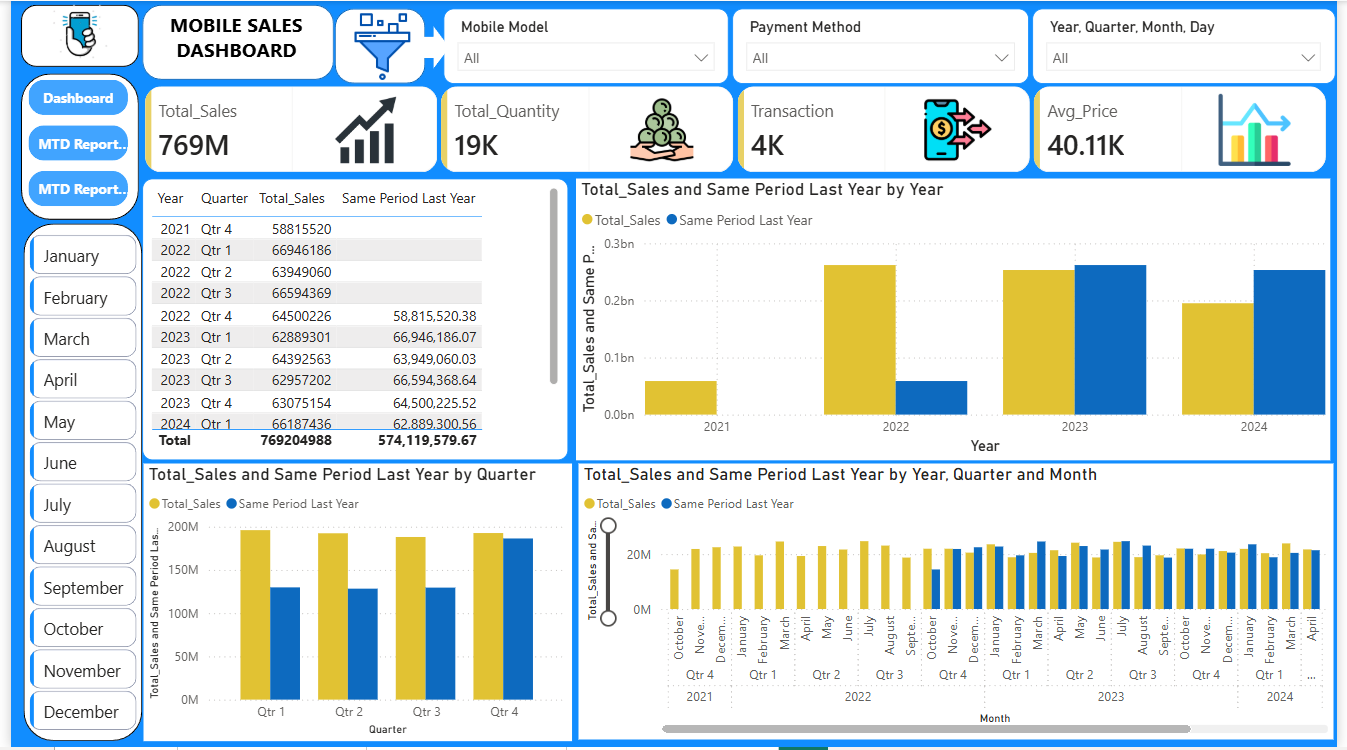

What the dashboard file says about the page in this screenshot:
{"tool":"powerbi","page":{"name":"Same Period Last Year","canvas":[1280,720],"ordinal":2},"visuals":[{"type":"shape","box":[10,3.8,113.8,60],"z":0},{"type":"image","box":[10,3.8,113.8,60],"z":1000},{"type":"shape","box":[10,70,113.8,141.2],"z":2000},{"type":"shape","box":[12.1,214.7,114.6,499.5],"z":3000},{"type":"advancedSlicerVisual","fields":{"Values":["Custom_calender.Date.Variation.Date Hierarchy.Month"]},"box":[13.3,220.8,113.4,493.4],"z":4000},{"type":"cardVisual","fields":{"Data":["Sales_Data.Total_Sales","Sales_Data.Total_Quantity","Sales_Data.Transaction","Sales_Data.Avg_Price"]},"box":[123.5,76.5,1155.6,95.1],"z":5000},{"type":"slicer","fields":{"Values":["Sales_Data.Mobile Model"]},"box":[417.5,7.5,275,72.5],"z":6000},{"type":"slicer","fields":{"Values":["Sales_Data.Payment Method"]},"box":[696.2,7.5,286.2,72.5],"z":7000},{"type":"slicer","fields":{"Values":["Custom_calender.Date.Variation.Date Hierarchy.Year","Custom_calender.Date.Variation.Date Hierarchy.Quarter","Custom_calender.Date.Variation.Date Hierarchy.Month","Custom_calender.Date.Variation.Date Hierarchy.Day"]},"box":[986.2,7.5,292.5,72.5],"z":8000},{"type":"shape","box":[312.5,7.5,87.5,72.5],"z":9000},{"type":"image","box":[317.5,11.2,82.5,66.2],"z":10000},{"type":"shape","box":[392.5,23.8,31.2,41.2],"z":11000},{"type":"shape","box":[126.2,3.8,185,72.5],"z":12000},{"type":"textbox","box":[148.8,5,138.8,80],"z":13000},{"type":"tableEx","fields":{"Values":["Custom_calender.Date.Variation.Date Hierarchy.Year","Custom_calender.Date.Variation.Date Hierarchy.Quarter","Sales_Data.Total_Sales","Sales_Data.Same Period Last Year"]},"box":[127.2,171.6,411.1,271.6],"z":14000},{"type":"clusteredColumnChart","fields":{"Category":["Custom_calender.Date.Variation.Date Hierarchy.Year","Custom_calender.Date.Variation.Date Hierarchy.Quarter"],"Y":["Sales_Data.Total_Sales","Sales_Data.Same Period Last Year"]},"box":[545.7,171.6,728.4,271.6],"z":15000},{"type":"clusteredColumnChart","fields":{"Y":["Sales_Data.Total_Sales","Sales_Data.Same Period Last Year"],"Category":["Custom_calender.Date.Variation.Date Hierarchy.Year","Custom_calender.Date.Variation.Date Hierarchy.Quarter","Custom_calender.Date.Variation.Date Hierarchy.Month","Custom_calender.Date.Variation.Date Hierarchy.Day"]},"box":[128.4,446.9,413.6,267.9],"z":16000},{"type":"clusteredColumnChart","fields":{"Y":["Sales_Data.Total_Sales","Sales_Data.Same Period Last Year"],"Category":["Custom_calender.Date.Variation.Date Hierarchy.Year","Custom_calender.Date.Variation.Date Hierarchy.Quarter","Custom_calender.Date.Variation.Date Hierarchy.Month","Custom_calender.Date.Variation.Date Hierarchy.Day"]},"box":[548.1,446.9,728.4,265.4],"z":17000},{"type":"pageNavigator","box":[17.3,76.5,96.3,123.5],"z":18000}]}

Visuals, with their boxes in screenshot pixels (x1, y1, x2, y2), scaled from the page's 1280x720 canvas onto the 1347x750 screenshot:
shape: <bbox>11, 4, 130, 66</bbox>
image: <bbox>11, 4, 130, 66</bbox>
shape: <bbox>11, 73, 130, 220</bbox>
shape: <bbox>13, 224, 133, 744</bbox>
advancedSlicerVisual - Custom_calender.Date.Variation.Date Hierarchy.Month: <bbox>14, 230, 133, 744</bbox>
cardVisual - Sales_Data.Total_Sales x Sales_Data.Total_Quantity: <bbox>130, 80, 1346, 179</bbox>
slicer - Sales_Data.Mobile Model: <bbox>439, 8, 729, 83</bbox>
slicer - Sales_Data.Payment Method: <bbox>733, 8, 1034, 83</bbox>
slicer - Custom_calender.Date.Variation.Date Hierarchy.Year x Custom_calender.Date.Variation.Date Hierarchy.Quarter: <bbox>1038, 8, 1346, 83</bbox>
shape: <bbox>329, 8, 421, 83</bbox>
image: <bbox>334, 12, 421, 81</bbox>
shape: <bbox>413, 25, 446, 68</bbox>
shape: <bbox>133, 4, 327, 79</bbox>
textbox: <bbox>157, 5, 303, 89</bbox>
tableEx - Custom_calender.Date.Variation.Date Hierarchy.Year x Custom_calender.Date.Variation.Date Hierarchy.Quarter: <bbox>134, 179, 566, 462</bbox>
clusteredColumnChart - Custom_calender.Date.Variation.Date Hierarchy.Year x Custom_calender.Date.Variation.Date Hierarchy.Quarter: <bbox>574, 179, 1341, 462</bbox>
clusteredColumnChart - Sales_Data.Total_Sales x Sales_Data.Same Period Last Year: <bbox>135, 466, 570, 745</bbox>
clusteredColumnChart - Sales_Data.Total_Sales x Sales_Data.Same Period Last Year: <bbox>577, 466, 1343, 742</bbox>
pageNavigator: <bbox>18, 80, 120, 208</bbox>
